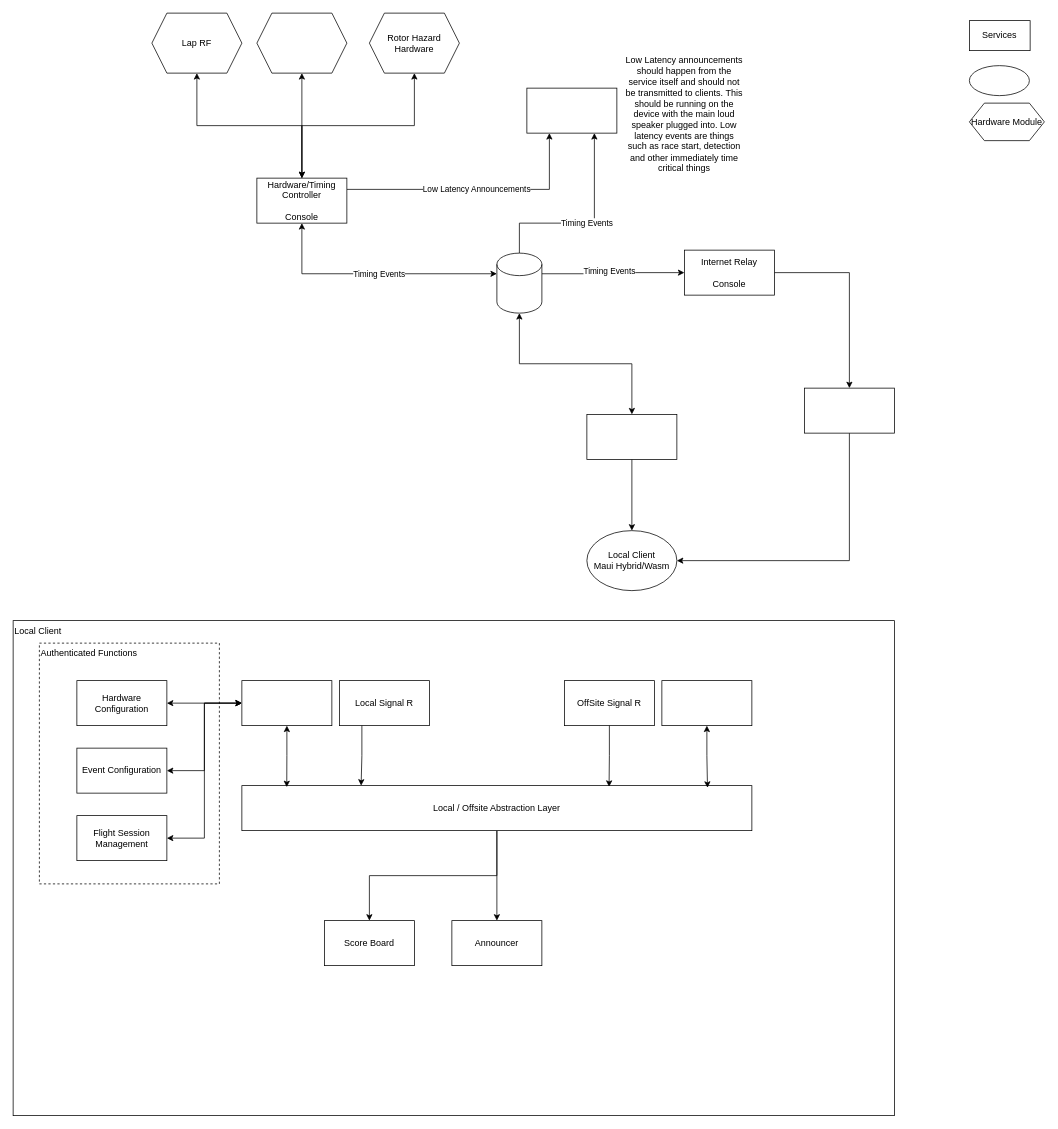
The diagram is 1058 pixels wide and 1129 high, and some of its shapes have lost their labels. Each missing label, with the box of its shape:
Client Service ASPNET WEB API + SIGNAL R: (586, 414, 677, 459)
Event Store: (496, 252, 542, 313)
Local API: (241, 680, 332, 726)
Nae Time Hardware: (256, 12, 347, 73)
OffSite API: (661, 680, 752, 726)
Offsite Service ASP NET WEB API + SIGNAL R: (804, 387, 894, 433)
Real Time Announcer Service Console: (526, 87, 617, 133)
Service Clients: (969, 65, 1029, 96)
